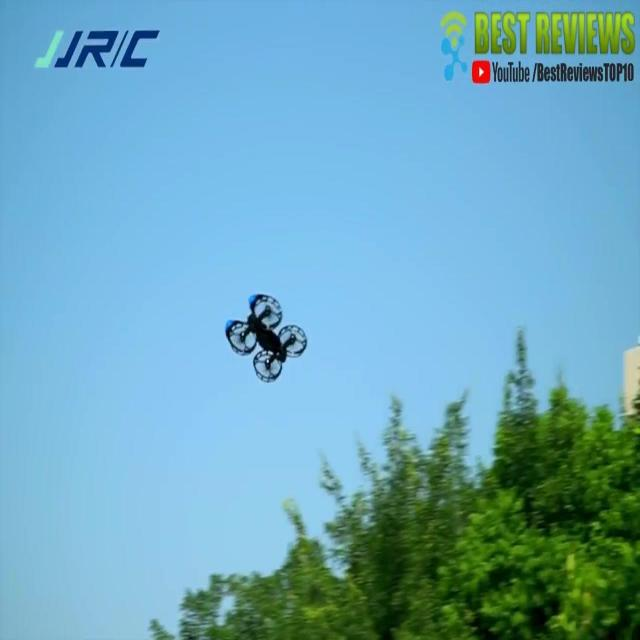UAV: (225, 293, 307, 383)
